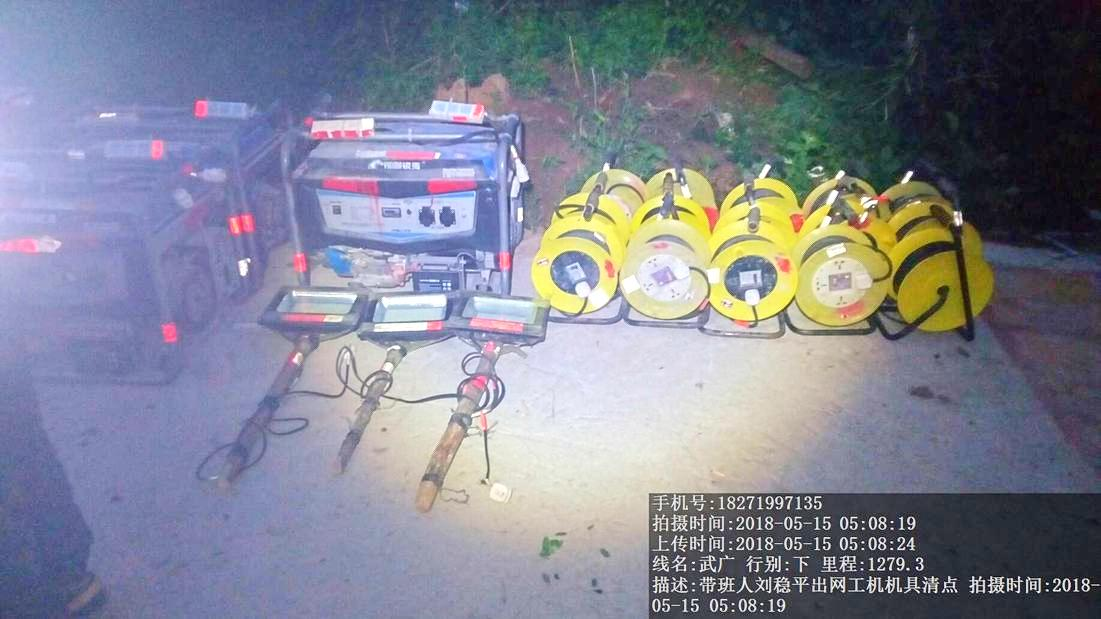DJ: (7, 158, 236, 390)
DX: (530, 219, 625, 324)
